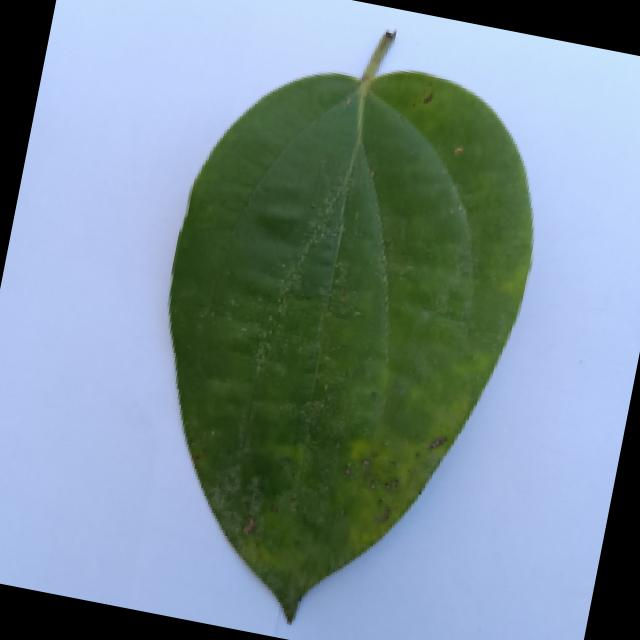slow-decline: (111, 13, 570, 640)
